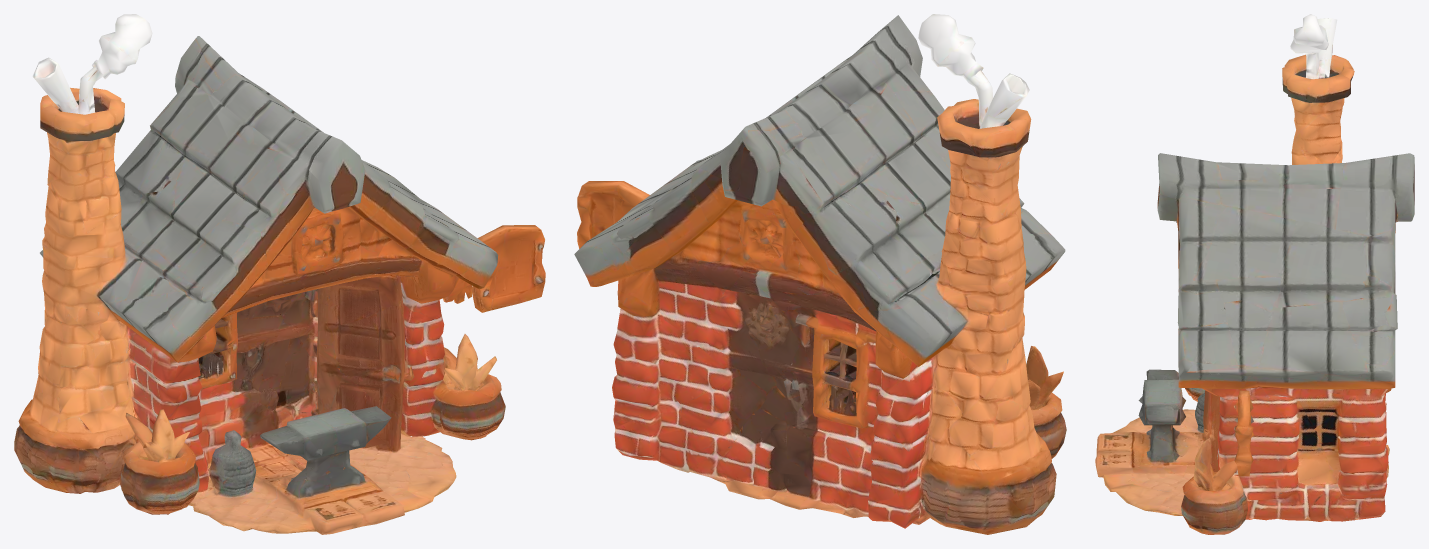
The model's file is workshop.glb.
3 views of the same model, side by side, from view 1: azimuth 30°, elevation 25°; view 2: azimuth 150°, elevation 25°; view 3: azimuth 270°, elevation 25° (orthographic). The views are drawn at different scales.
Size of the model in its own units: 1.9 by 1.71 by 1.26.
1 material, 1 textured.
